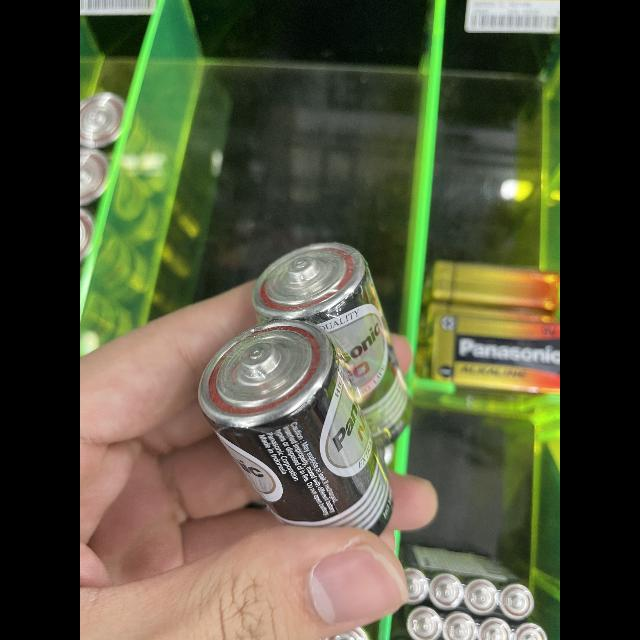battery: (201, 327, 401, 547), (258, 229, 422, 441)
